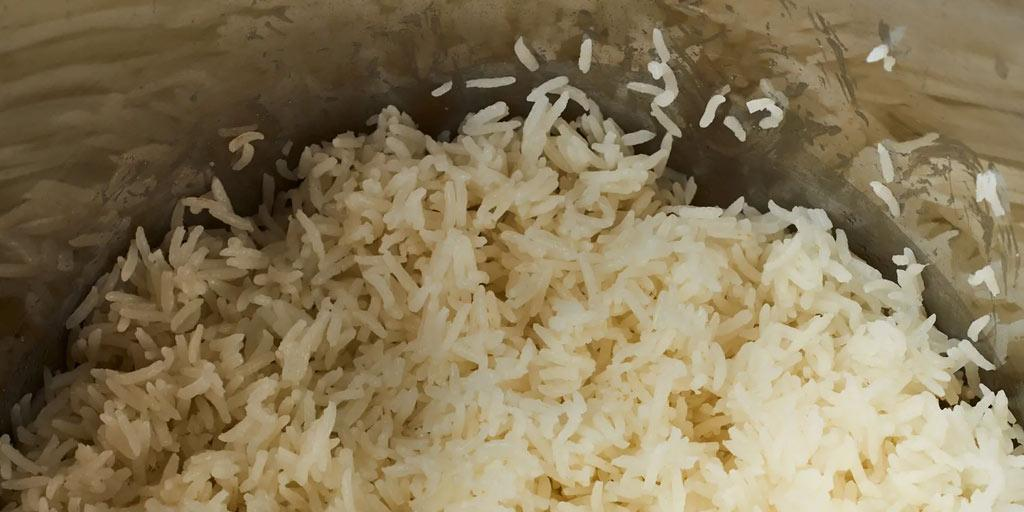rice: (3, 79, 1024, 511)
